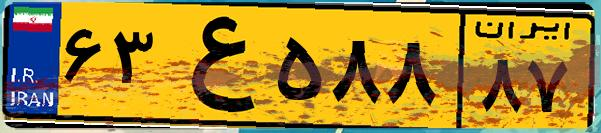3: (110, 28, 158, 98)
5: (270, 28, 330, 110)
6: (57, 26, 110, 100)
7: (525, 38, 570, 115)
8: (385, 28, 445, 110), (330, 28, 385, 110), (475, 38, 525, 113)
ع: (158, 12, 270, 120)
